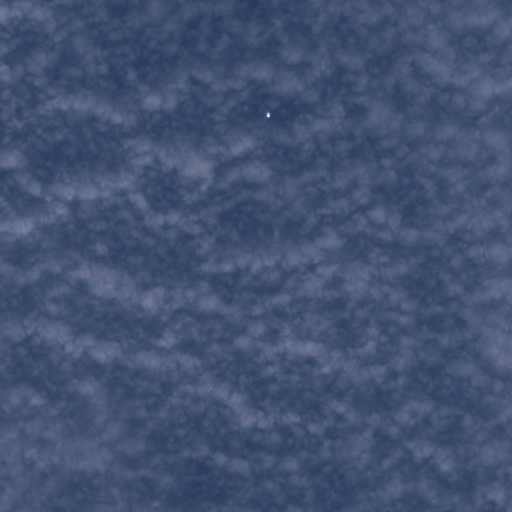Iceberg: (266, 112, 270, 117)
